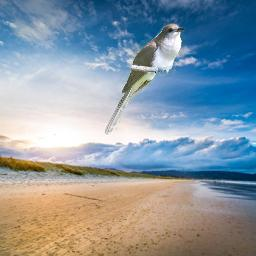Cuckoo: (103, 23, 185, 135)
